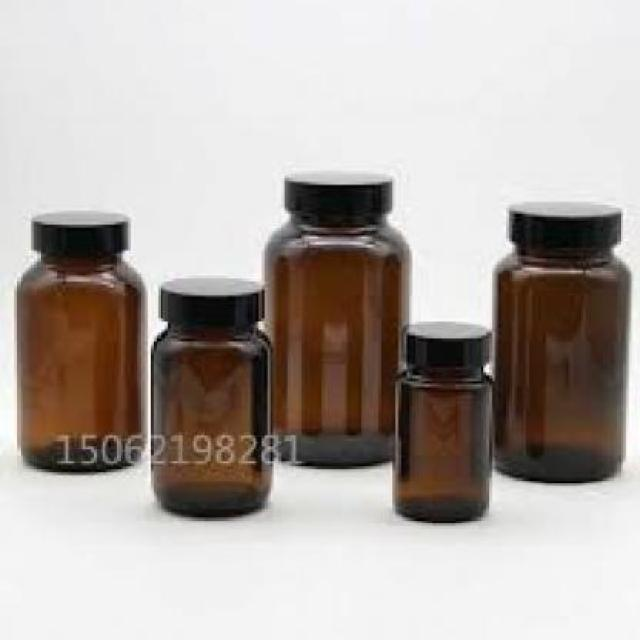kaca: (262, 211, 406, 469), (492, 248, 628, 483), (12, 252, 143, 472), (148, 321, 274, 517), (392, 365, 490, 520)
